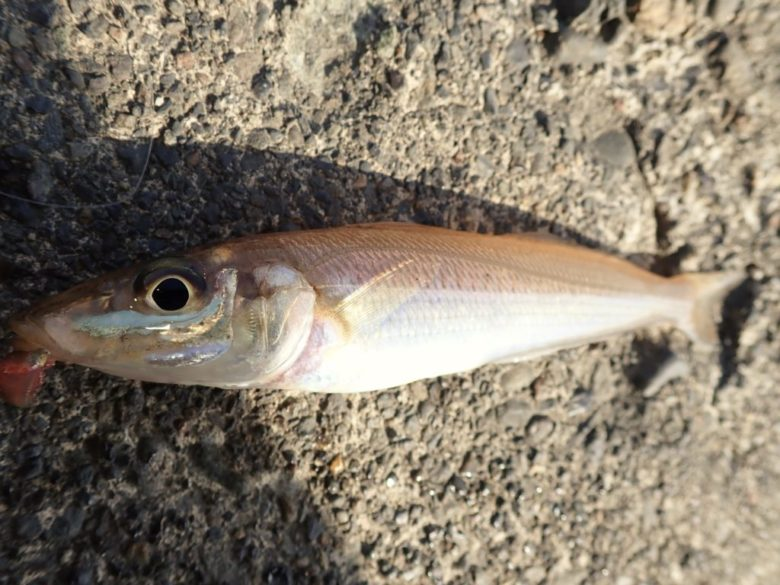kiss: (15, 221, 755, 401)
